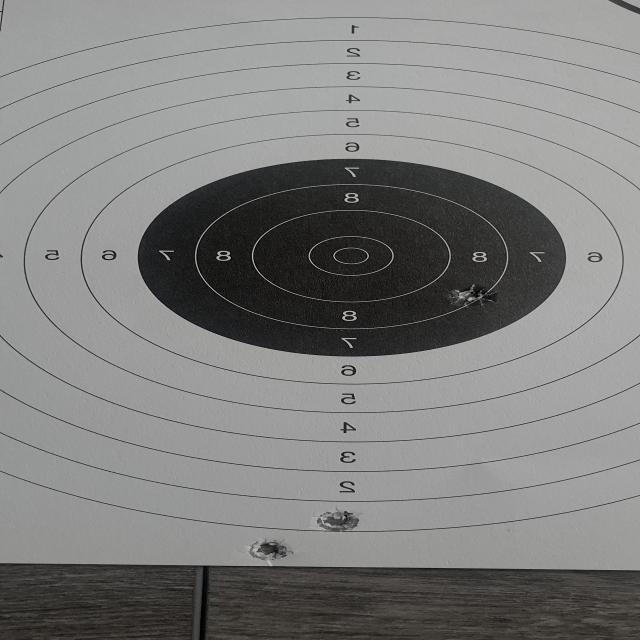0: (239, 539, 300, 567)
1: (314, 508, 362, 532)
8: (450, 284, 505, 310)
Target: (0, 14, 640, 534)
black_contour: (138, 158, 565, 356)
